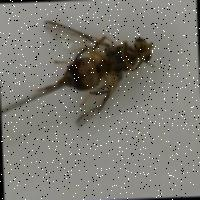Oriental-fruit-fly: (26, 2, 168, 133)
